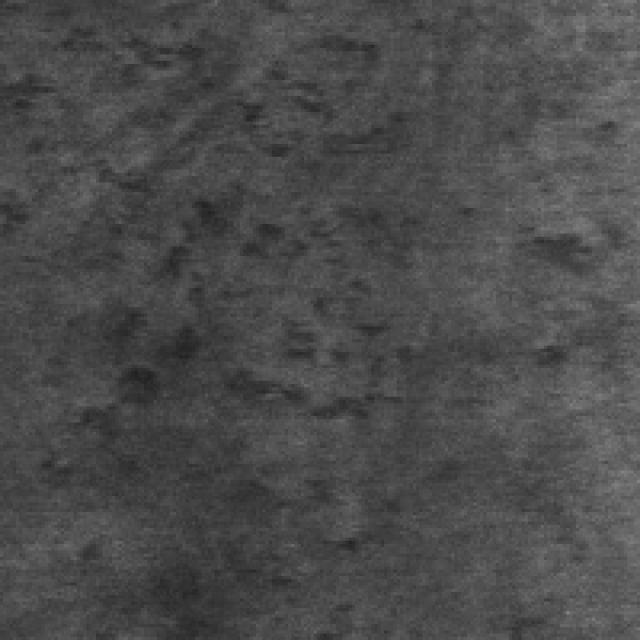rolled-in_scale: (0, 16, 387, 397)
